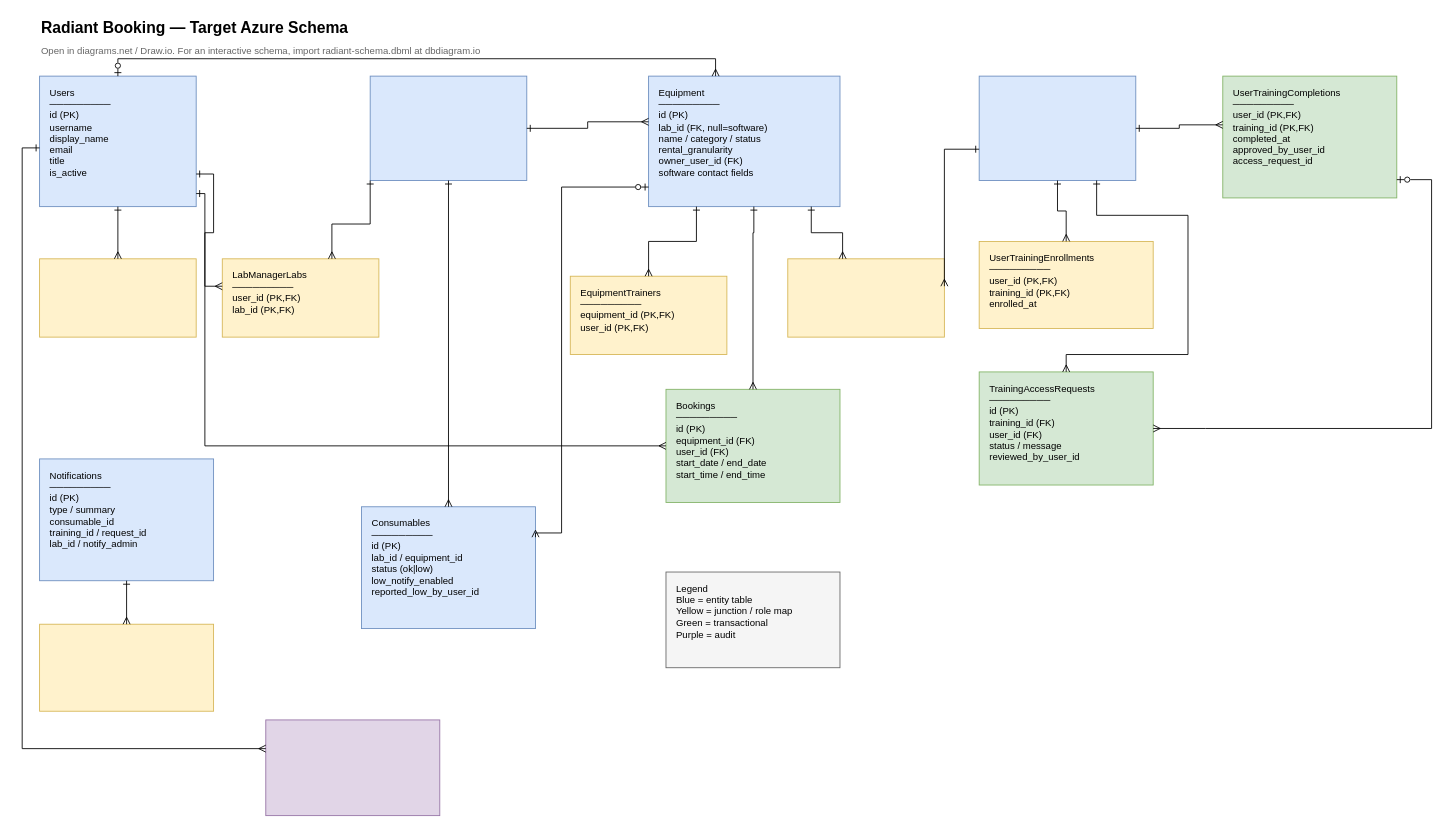
The diagram is 1455 pixels wide and 831 high, and some of its shapes have lost their labels. The shapes that lost their labels are listed below. From the top down, each one's box as (x1, y1, x2, y2) in pixels, then its label:
(369, 75, 527, 181): Labs ───────── id (PK) name description image_url
(978, 75, 1136, 181): Trainings ───────── id (PK) name description how_to_complete
(39, 258, 196, 337): UserRoles ───────── user_id (PK,FK) role (PK)
(787, 258, 944, 337): EquipmentTrainings ───────── equipment_id (PK,FK) training_id (PK,FK)
(39, 623, 214, 711): NotificationReads ───────── notification_id (PK,FK) user_id (PK,FK) read_at
(265, 719, 440, 816): ActivityLog ───────── id (PK) timestamp actor_user_id (FK) action / summary
